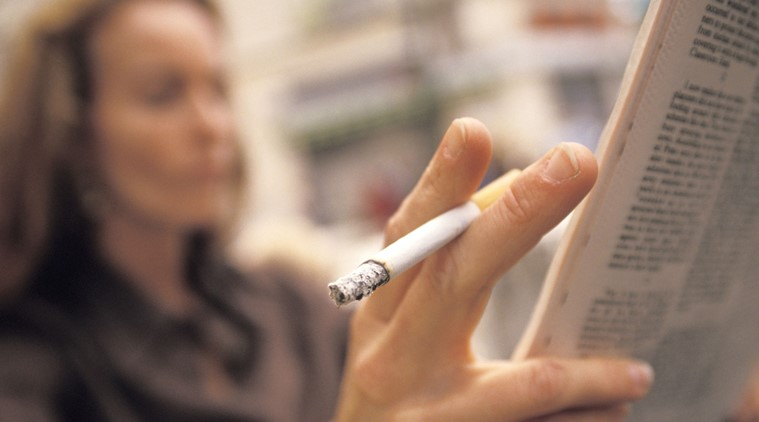cigarette: (307, 156, 544, 321)
